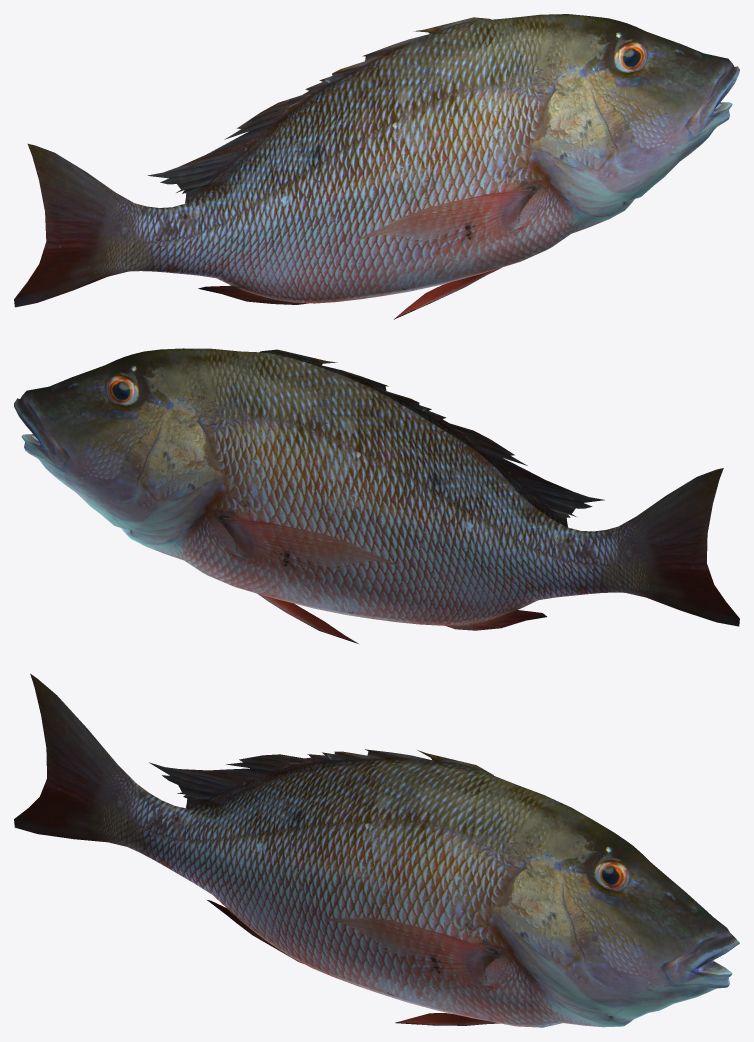
The model's file is FishTest_edit_for_FBX.fbx.
3 views of the same model, one above another, from view 1: azimuth 30°, elevation 25°; view 2: azimuth 150°, elevation 25°; view 3: azimuth 330°, elevation 25° (orthographic).
Visible parts, largest first — view 1: fishOBJ; view 2: fishOBJ; view 3: fishOBJ.
Boxes of the visible parts, x1,y1,x2,y2 form: fishOBJ: (14, 14, 739, 319); fishOBJ: (14, 348, 739, 643); fishOBJ: (14, 673, 739, 1027).
Size of the model in its own units: 1201 by 444 by 124.
Materials: 1 (1 with a texture image).
